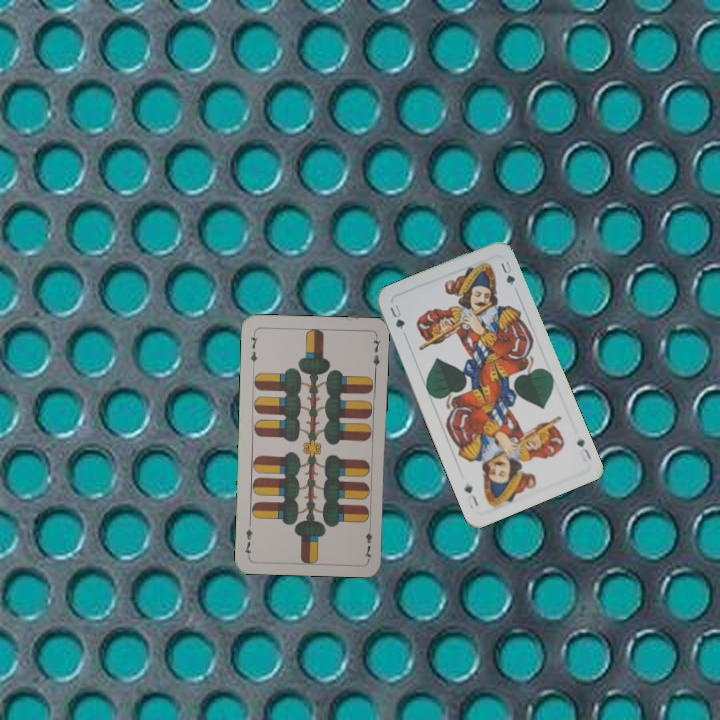E7: (246, 329, 261, 369), (360, 521, 374, 561)
GU: (385, 300, 407, 332), (573, 434, 594, 465)
